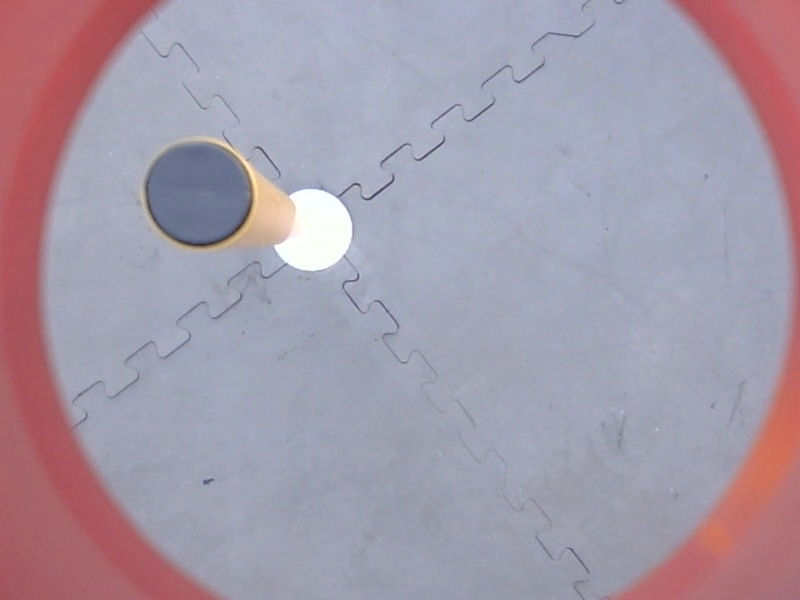tip: (135, 132, 264, 256)
